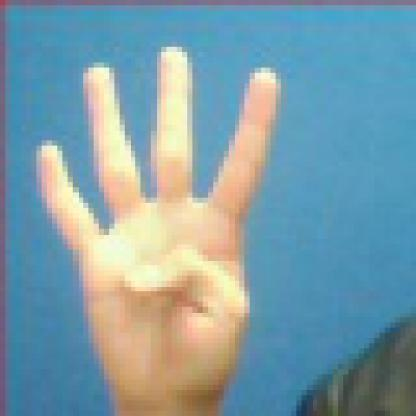four: (26, 36, 291, 411)
